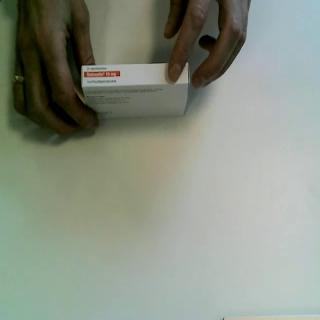dolcontin10mg: (81, 62, 192, 122)
